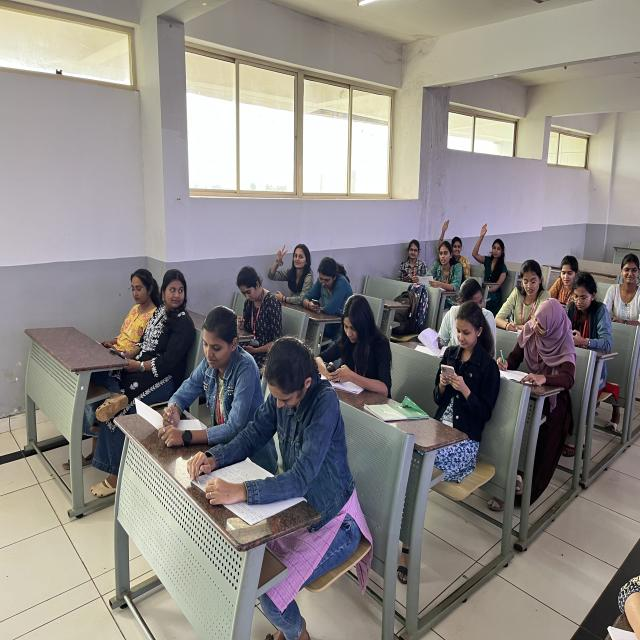Hand Rising: (476, 212, 514, 297), (436, 208, 472, 276)
Reading: (195, 314, 332, 521)
Using Phone: (434, 302, 501, 484), (325, 293, 392, 400), (564, 277, 619, 362), (308, 240, 356, 320)
Writing: (146, 295, 252, 447), (498, 294, 570, 412), (493, 245, 548, 336)
